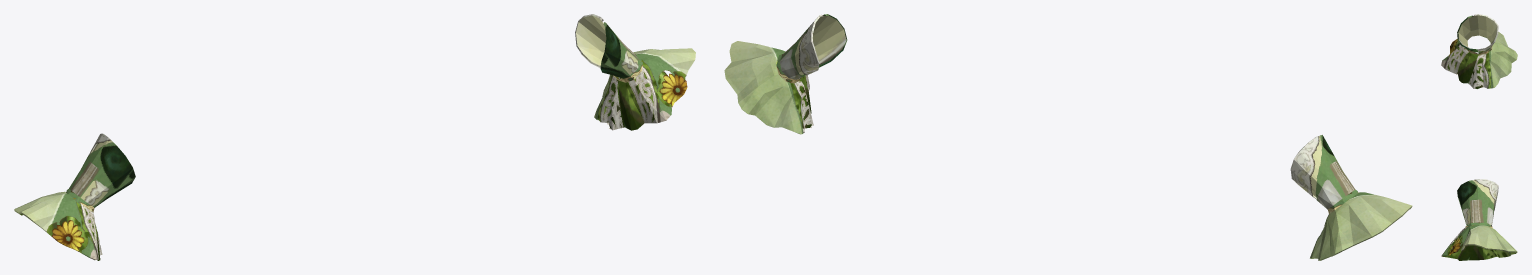
Rendered from skinSource0HFE.obj.
The picture shows the model from 3 angles, left to right: view 1: azimuth 30°, elevation 25°; view 2: azimuth 150°, elevation 25°; view 3: azimuth 270°, elevation 25°; orthographic projection. The views are drawn at different scales.
Parts seen in each view (by area): view 1: skinSource0HFE; view 2: skinSource0HFE; view 3: skinSource0HFE.
Part boxes in pixels (x1=…): skinSource0HFE: x1=14, y1=14, x2=695, y2=260; skinSource0HFE: x1=724, y1=14, x2=1412, y2=260; skinSource0HFE: x1=1441, y1=14, x2=1517, y2=260.
Size of the model in its own units: 92.92 by 15.07 by 13.43.
